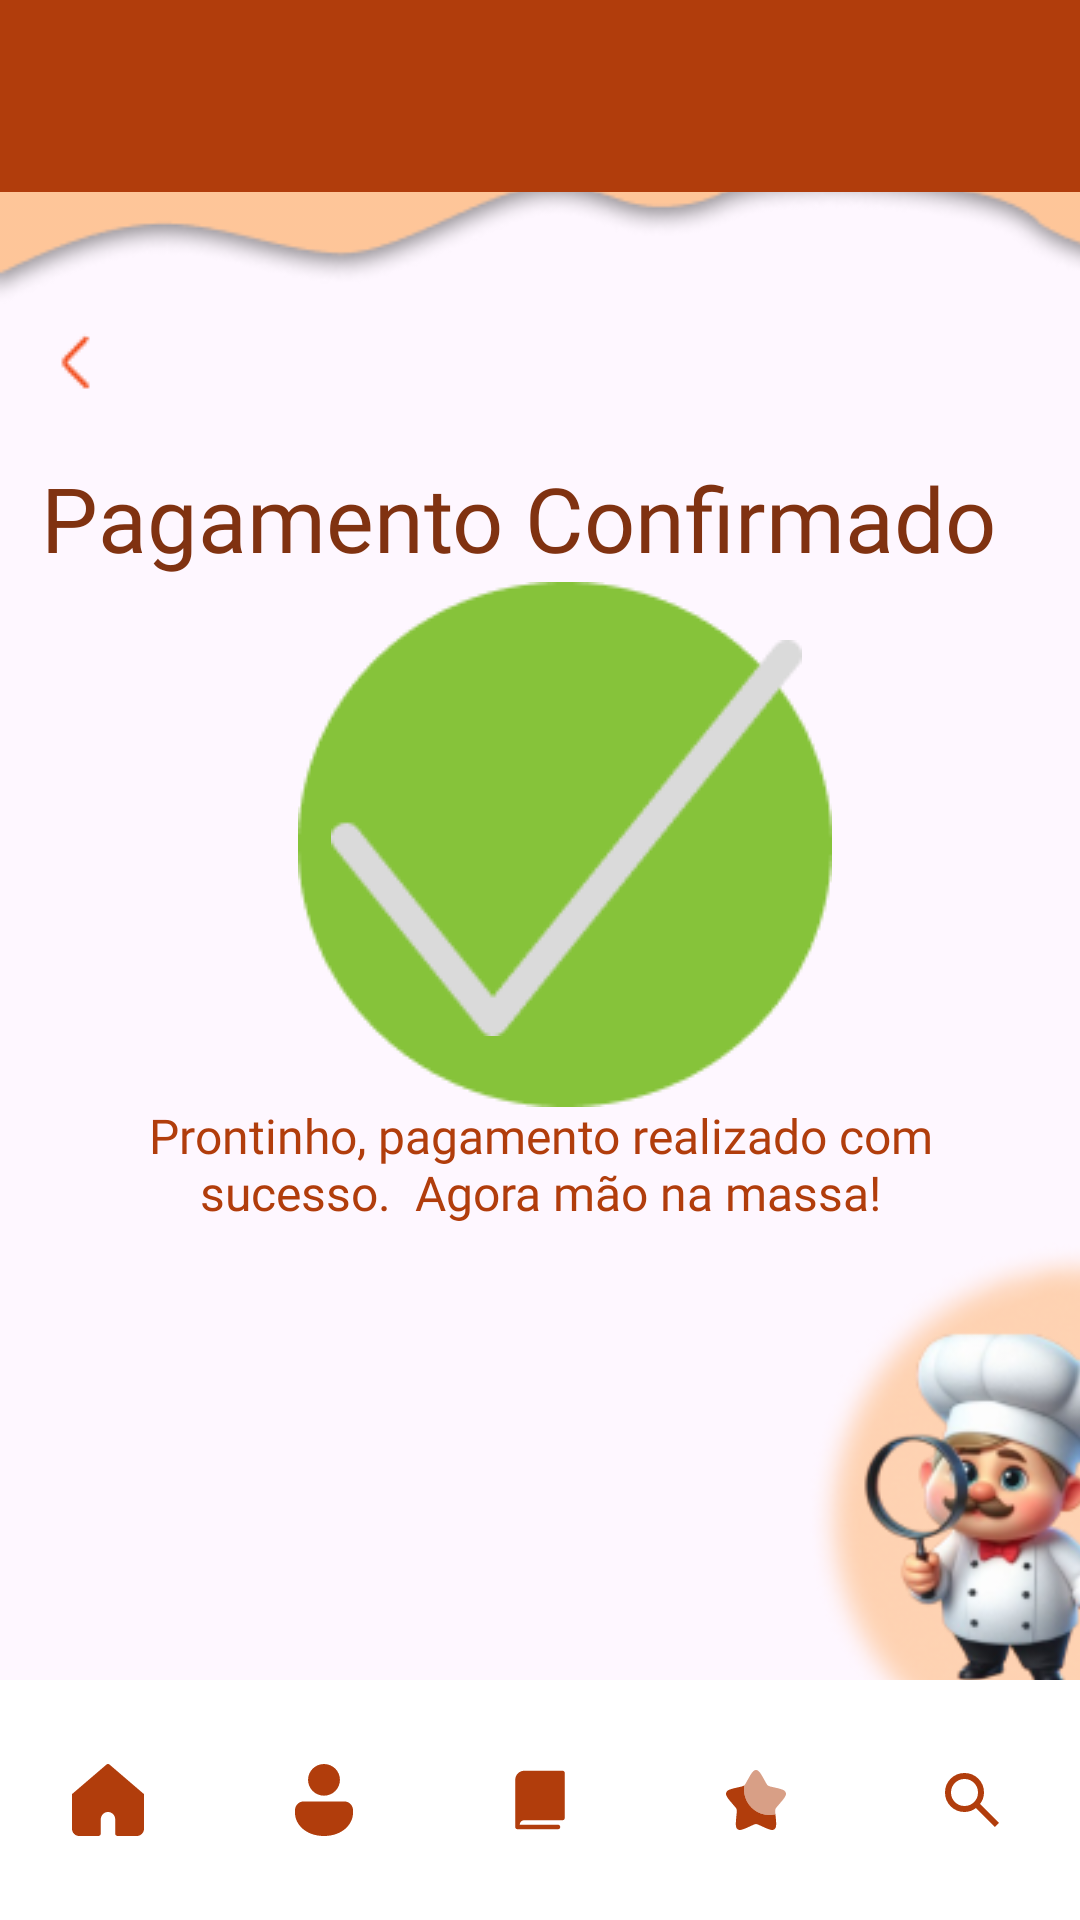

Named icons in this screenshot (1080*1920) and their centers, (x,y):
setadesaida: (75,362)
